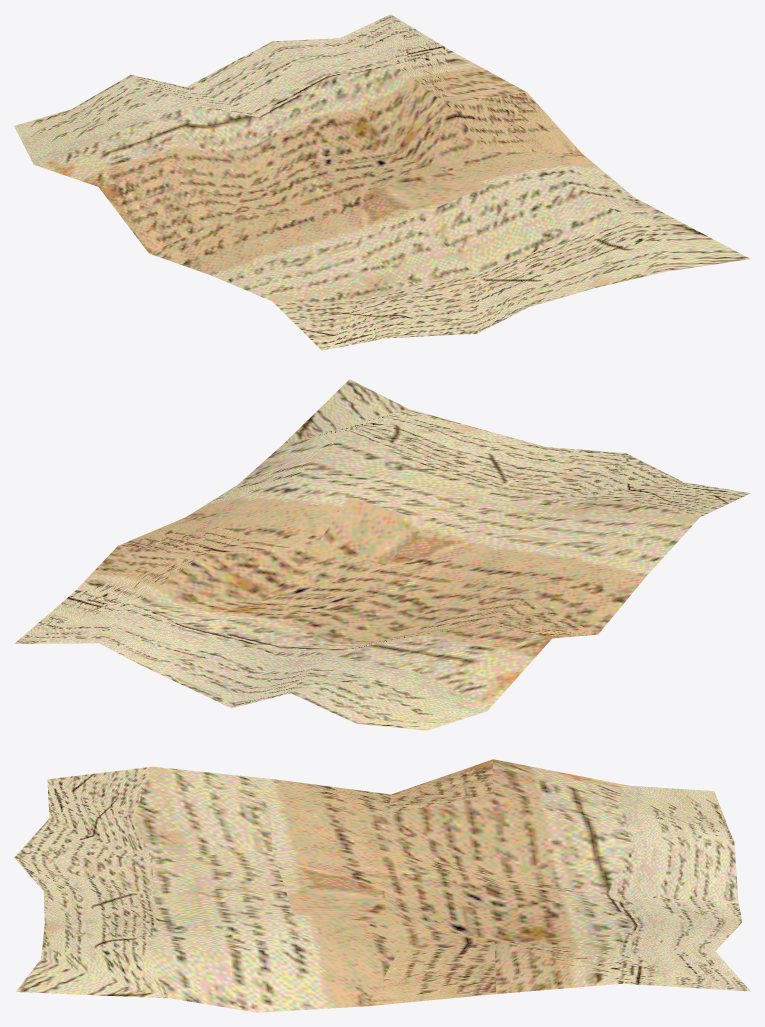
File: secretnote.fbx
3 renders of one model, top to bottom at view 1: azimuth 30°, elevation 25°; view 2: azimuth 150°, elevation 25°; view 3: azimuth 270°, elevation 25°, orthographic. The views are drawn at different scales.
Visible parts, largest first — view 1: Plane; view 2: Plane; view 3: Plane.
Boxes of the visible parts, x1,y1,x2,y2 form: Plane: [14, 14, 750, 350]; Plane: [14, 379, 750, 730]; Plane: [14, 759, 750, 1012].
Size of the model in its own units: 159 by 12.33 by 223.
